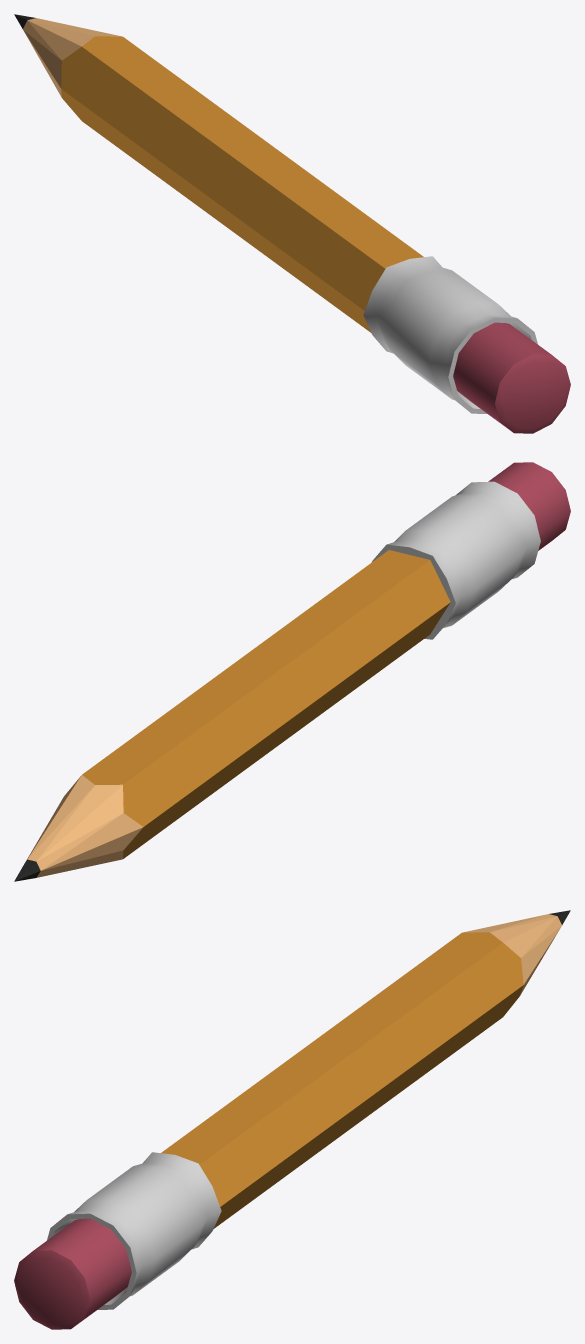
Rendered from Pencil.fbx.
3 views of the same model, one above another, from view 1: azimuth 30°, elevation 25°; view 2: azimuth 150°, elevation 25°; view 3: azimuth 330°, elevation 25° (orthographic).
Visible parts, largest first — view 1: PENCIL1, PENCIL3, PENCIL4, PENCIL2, PENCIL5; view 2: PENCIL1, PENCIL3, PENCIL4, PENCIL2, PENCIL5; view 3: PENCIL1, PENCIL3, PENCIL4, PENCIL5, PENCIL2.
Boxes of the visible parts, left/top/right/bottom form: PENCIL1: left=14, top=14, right=233, bottom=202; PENCIL3: left=258, top=177, right=423, bottom=332; PENCIL4: left=363, top=256, right=537, bottom=413; PENCIL2: left=164, top=118, right=314, bottom=256; PENCIL5: left=453, top=322, right=570, bottom=433; PENCIL1: left=14, top=693, right=245, bottom=881; PENCIL3: left=274, top=550, right=450, bottom=722; PENCIL4: left=371, top=481, right=540, bottom=639; PENCIL2: left=194, top=634, right=339, bottom=776; PENCIL5: left=488, top=462, right=570, bottom=550; PENCIL1: left=359, top=910, right=570, bottom=1105; PENCIL3: left=161, top=1079, right=341, bottom=1228; PENCIL4: left=47, top=1152, right=221, bottom=1309; PENCIL5: left=14, top=1218, right=131, bottom=1329; PENCIL2: left=262, top=1008, right=402, bottom=1147.
Size of the model in its own units: 53.18 by 53.05 by 518.
Materials: 1 (1 with a texture image).
